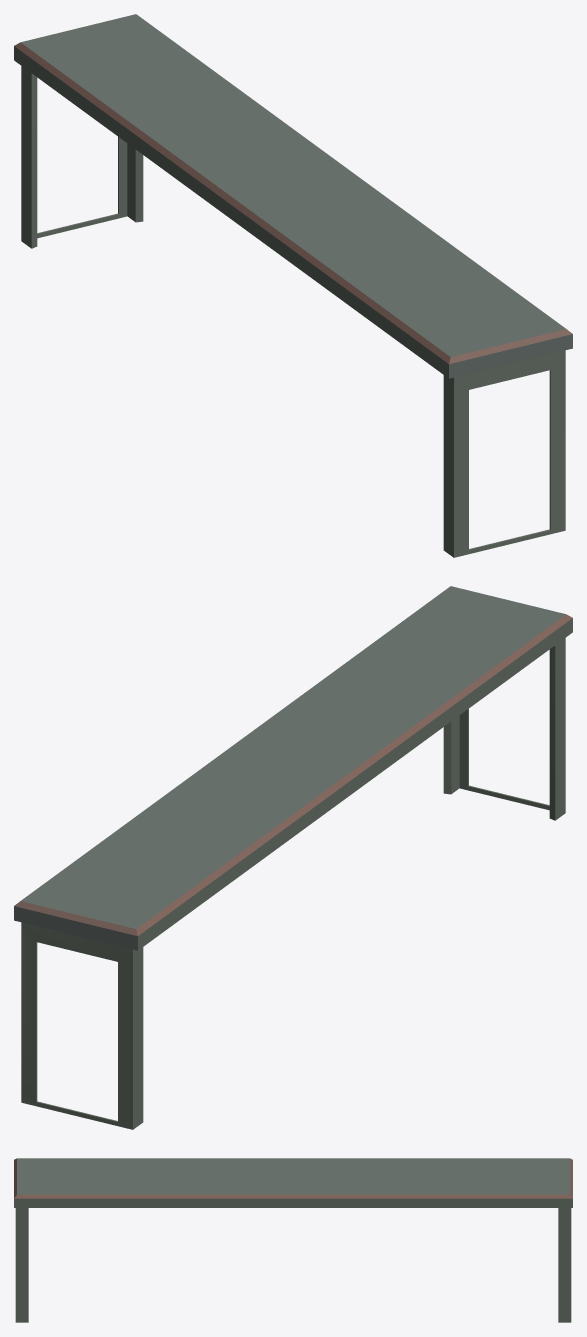
File: laweczkadluga.fbx
3 renders of one model, top to bottom at view 1: azimuth 30°, elevation 25°; view 2: azimuth 150°, elevation 25°; view 3: azimuth 270°, elevation 25°, orthographic. The views are drawn at different scales.
Parts seen in each view (by area): view 1: Cube, laweczkadluga; view 2: Cube, laweczkadluga; view 3: Cube, laweczkadluga.
Boxes of the visible parts, x1,y1,x2,y2 form: Cube: (14,14,572,378); laweczkadluga: (21,66,565,557); Cube: (14,586,572,950); laweczkadluga: (21,638,565,1129); Cube: (14,1158,572,1207); laweczkadluga: (15,1208,571,1322).
Size of the model in its own units: 3 by 4.63 by 18.24.
